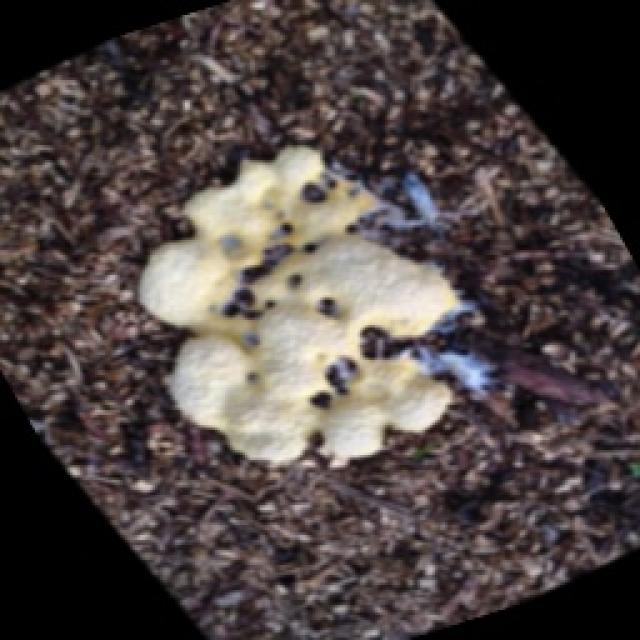Dog_vomit_slime_mold: (102, 140, 578, 492)
